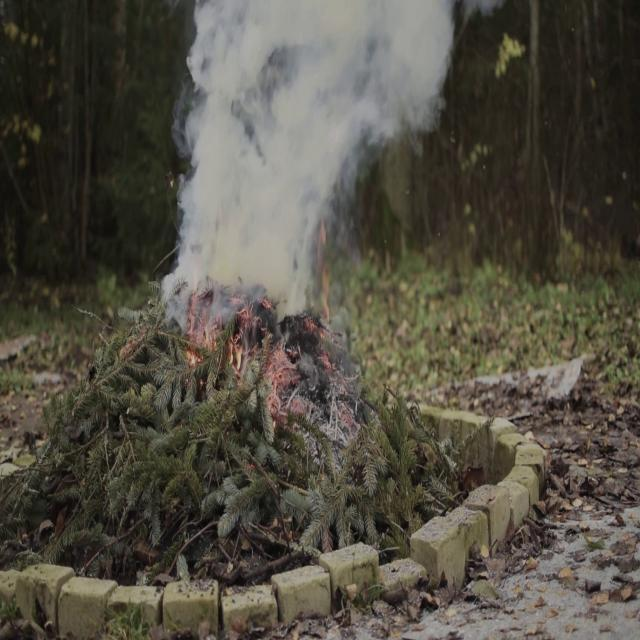Smoke: (152, 0, 450, 306)
